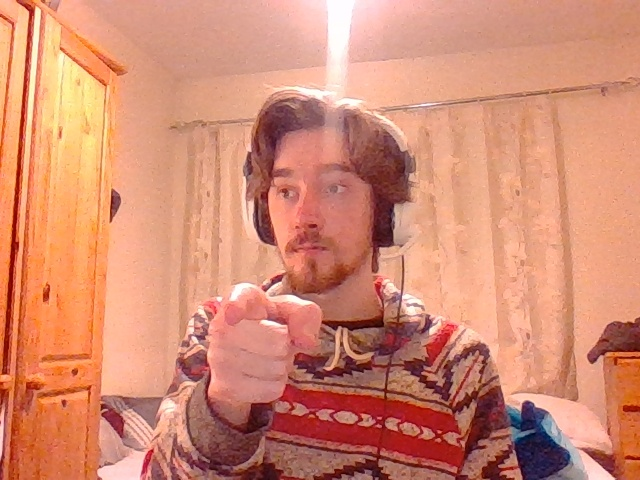you: (206, 282, 323, 404)
